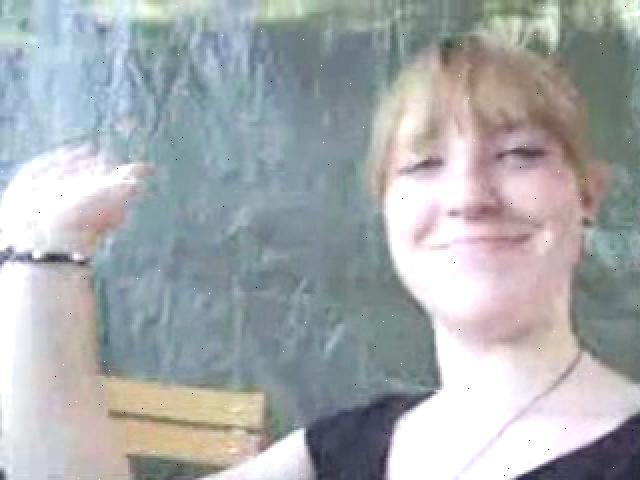T: (7, 33, 638, 476)
